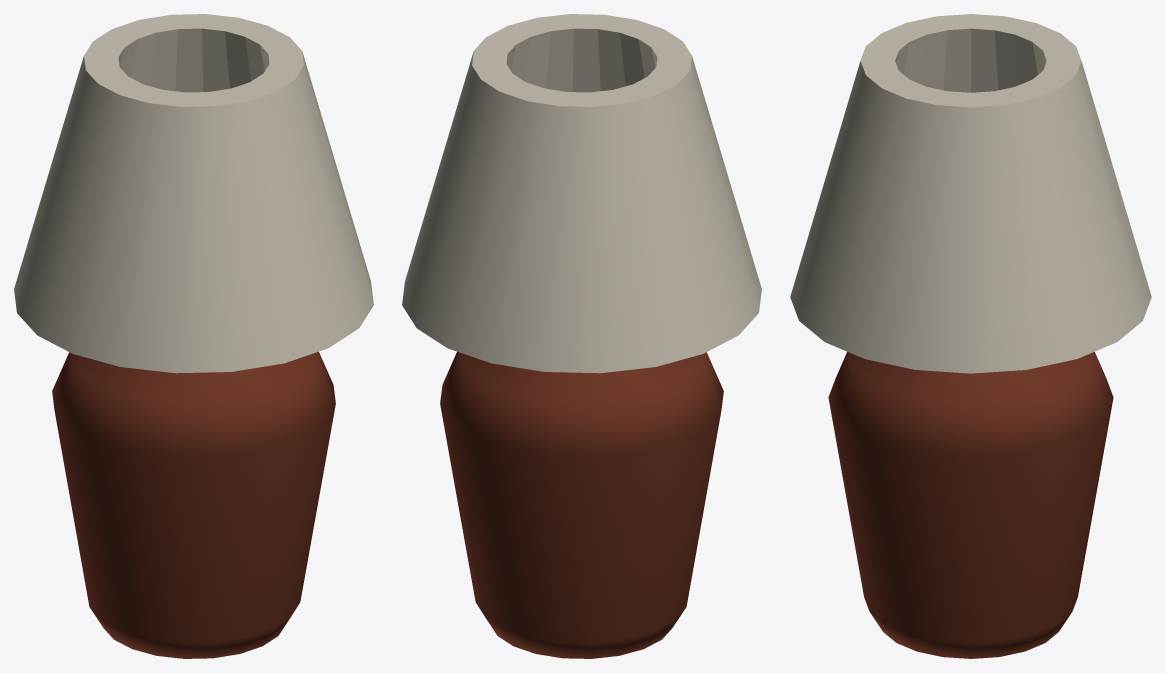
Rendered from LAMP PLAYER HOUSE FINAL.fbx.
The picture shows the model from 3 angles, left to right: view 1: azimuth 30°, elevation 25°; view 2: azimuth 150°, elevation 25°; view 3: azimuth 270°, elevation 25°; orthographic projection.
Parts seen in each view (by area): view 1: polySurface1, polySurface2; view 2: polySurface1, polySurface2; view 3: polySurface1, polySurface2.
Part boxes in pixels (x1,y1,x2,y2): polySurface1: (14,14,373,373); polySurface2: (52,351,335,658); polySurface1: (402,14,761,373); polySurface2: (440,351,723,658); polySurface1: (790,14,1151,373); polySurface2: (828,352,1113,658).
Bounding box in the file's own units: 3.47 × 5.92 × 3.47.
